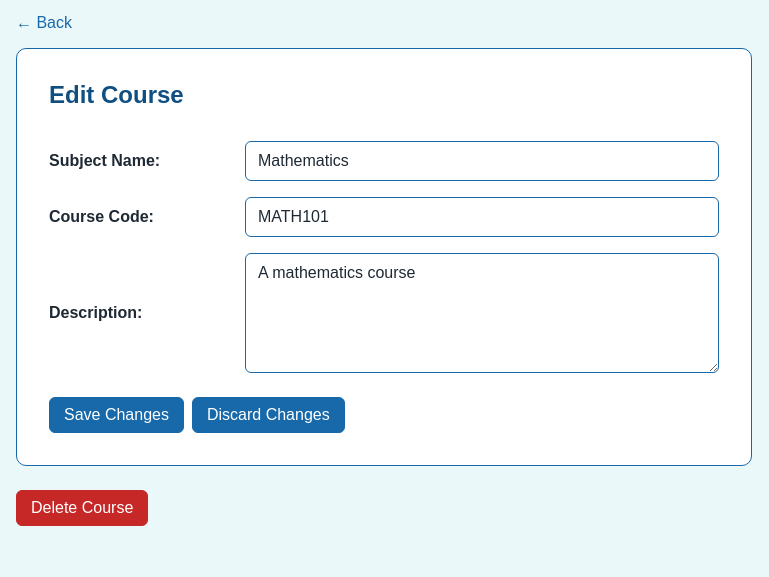
Scenario: EditCourse › updates a field and submits the edited course
Replace the text in the field labelled "Subject Name:" with "Advanced Mathematics" at (482, 161), box x1=245 y1=141 x2=719 y2=181
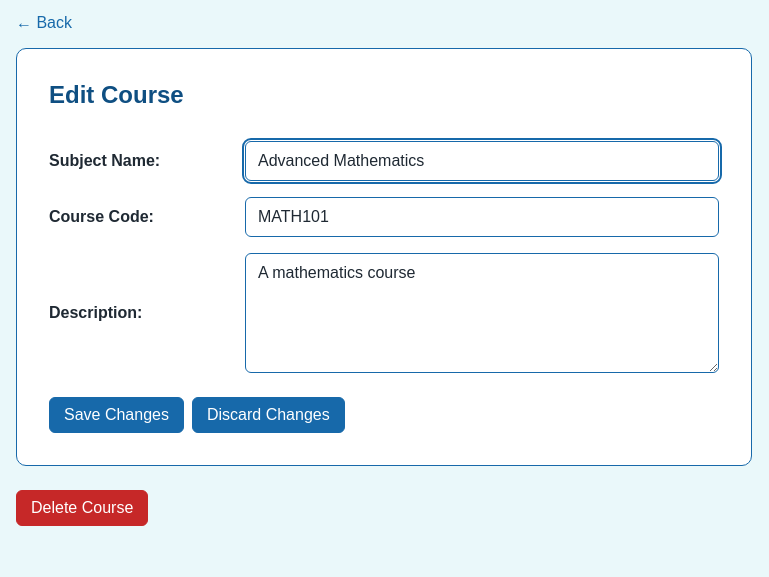
Click the button "Save Changes".
click(116, 415)  # box x1=49 y1=397 x2=184 y2=433
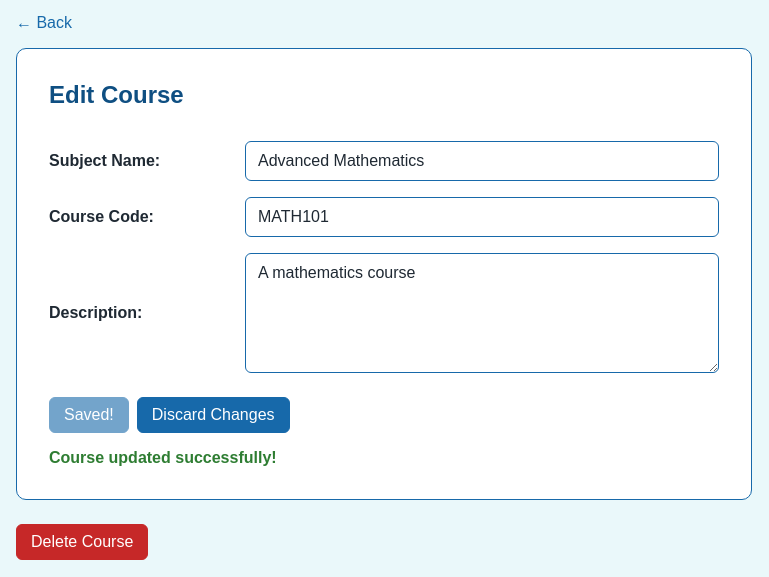
expect the text "Course updated successfully!" is shown: met, box x1=49 y1=449 x2=277 y2=466
expect the button "Saved!" is disabled: met, box x1=49 y1=397 x2=129 y2=433
